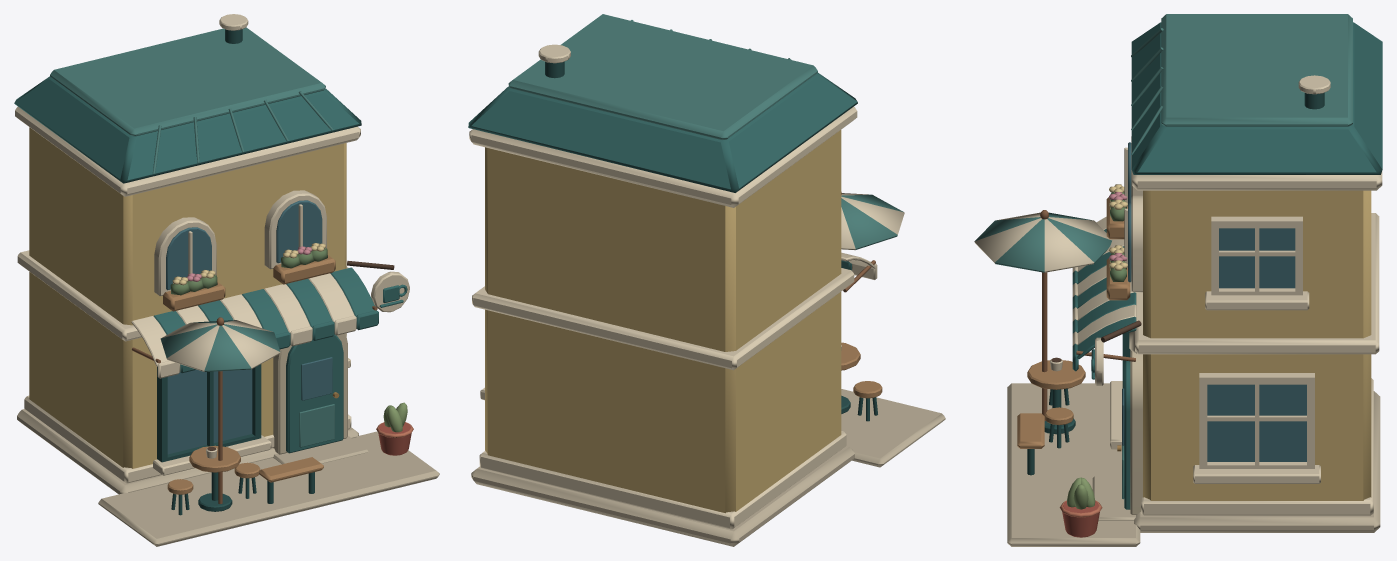
The model's file is cafe_level_3.glb.
3 views of the same model, side by side, from view 1: azimuth 30°, elevation 25°; view 2: azimuth 150°, elevation 25°; view 3: azimuth 270°, elevation 25° (orthographic). The views are drawn at different scales.
Parts seen in each view (by area): view 1: cafe_level_3_runtime; view 2: cafe_level_3_runtime; view 3: cafe_level_3_runtime.
Boxes of the visible parts, <box> form: cafe_level_3_runtime: <box>14,14,439,546</box>; cafe_level_3_runtime: <box>468,14,945,546</box>; cafe_level_3_runtime: <box>974,14,1382,546</box>.
Bounding box in the file's own units: 4.21 × 5.17 × 4.47.
